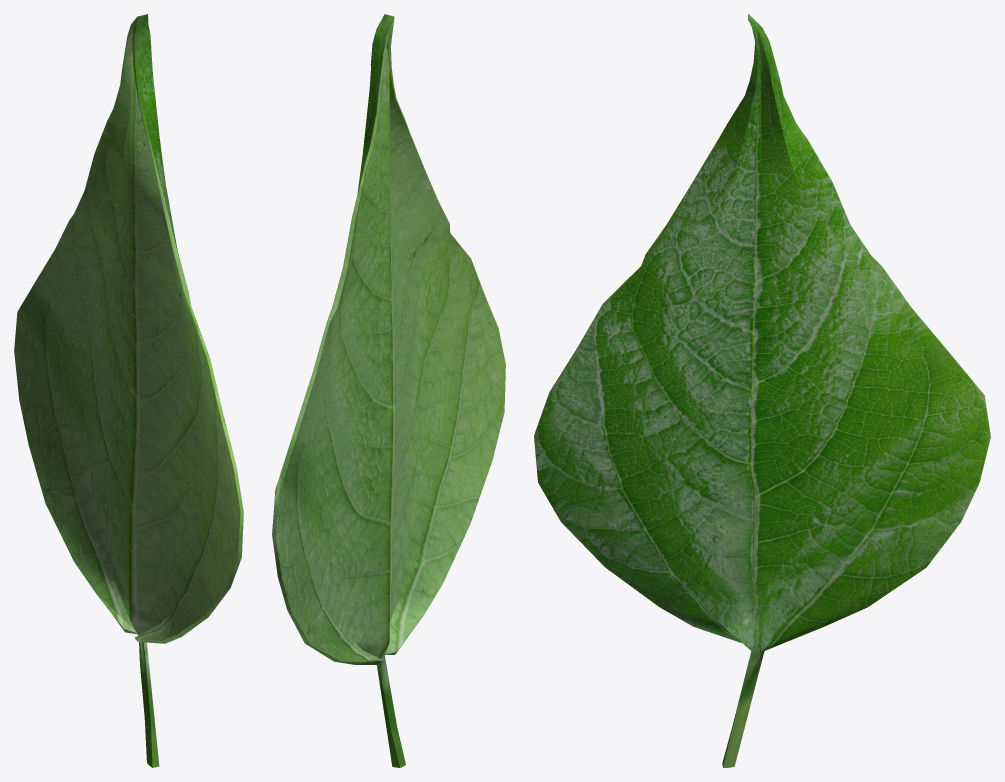
Rendered from Leaves.glb.
3 renders of one model, left to right at view 1: azimuth 30°, elevation 25°; view 2: azimuth 150°, elevation 25°; view 3: azimuth 270°, elevation 25°, orthographic. The views are drawn at different scales.
Parts seen in each view (by area): view 1: Leaves; view 2: Leaves; view 3: Leaves.
Part boxes in pixels (box(x1,y1,x2,y2)): Leaves: box(14, 14, 243, 767); Leaves: box(272, 14, 505, 767); Leaves: box(534, 14, 990, 767).
Size of the model in its own units: 0.0589 by 1.76 by 0.9717.
Materials: 1 (1 with a texture image).
